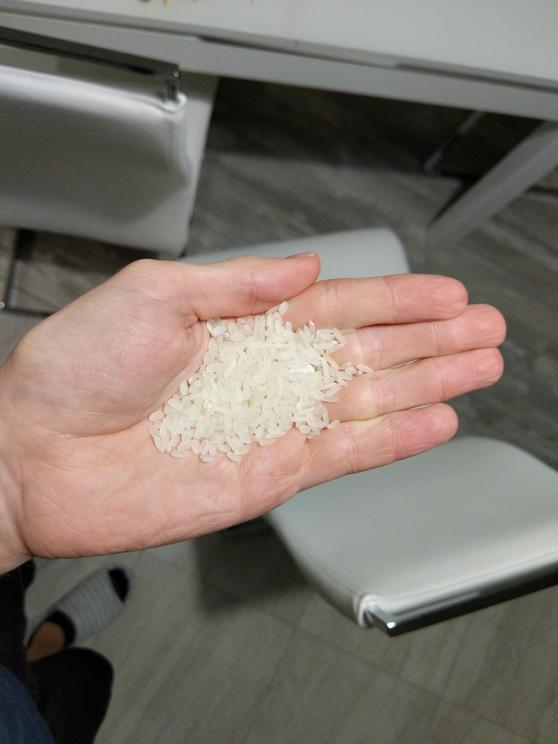milk: (143, 288, 373, 474)
